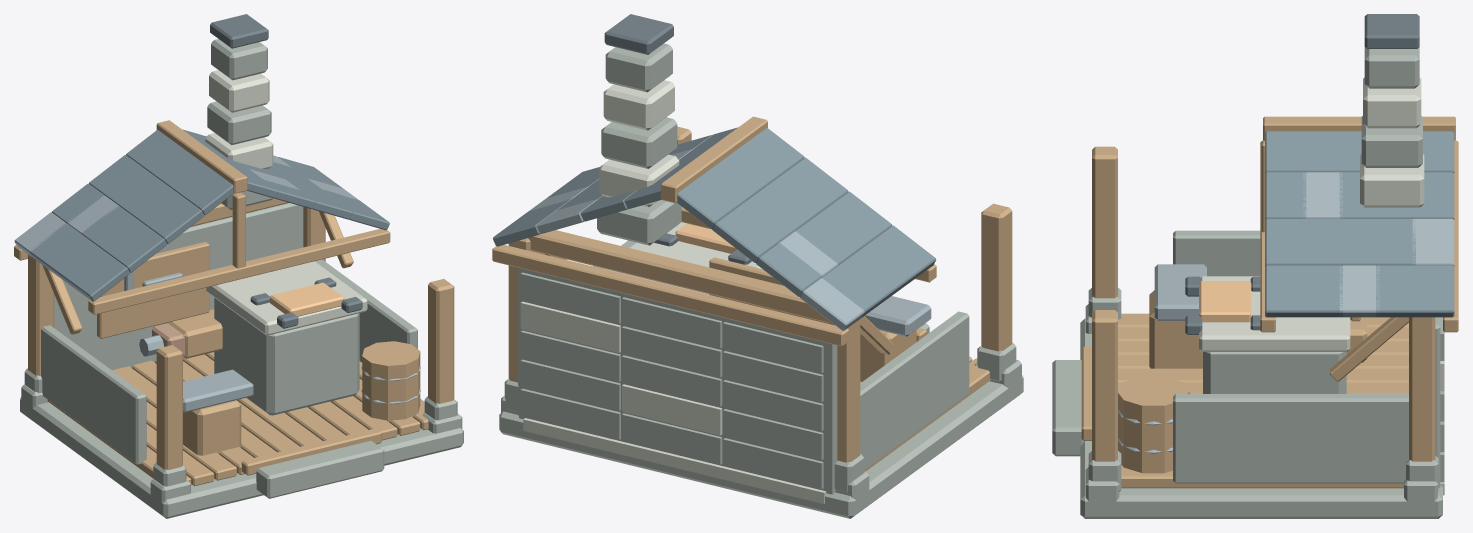
Rendered from smithy.fbx.
3 renders of one model, left to right at view 1: azimuth 30°, elevation 25°; view 2: azimuth 150°, elevation 25°; view 3: azimuth 270°, elevation 25°, orthographic. The views are drawn at different scales.
Parts seen in each view (by area): view 1: smithy_mesh, Bellows, ForgeGlow; view 2: smithy_mesh, ForgeGlow; view 3: smithy_mesh, ForgeGlow, Bellows.
Boxes of the visible parts, left/top/right/bottom form: smithy_mesh: left=14, top=14, right=463, bottom=518; Bellows: left=139, top=309, right=222, bottom=358; ForgeGlow: left=270, top=282, right=344, bottom=316; smithy_mesh: left=492, top=14, right=1023, bottom=518; ForgeGlow: left=675, top=223, right=738, bottom=253; smithy_mesh: left=1052, top=14, right=1458, bottom=518; ForgeGlow: left=1199, top=281, right=1251, bottom=322; Bellows: left=1346, top=317, right=1367, bottom=362.
Size of the model in its own units: 3.28 by 3.69 by 3.12.
